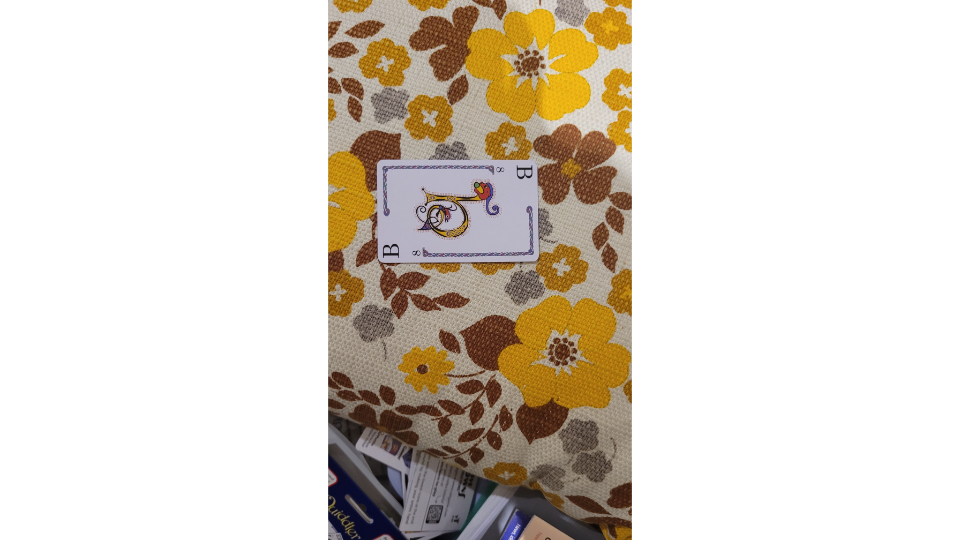B: (374, 157, 541, 264)
